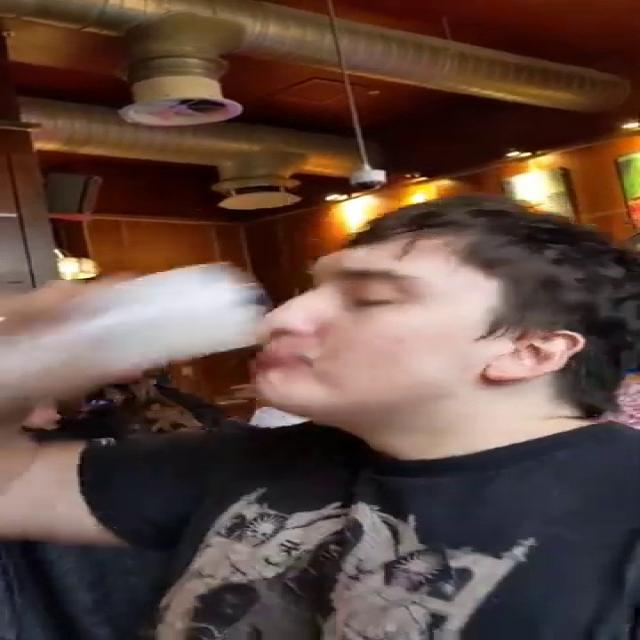Cup: (1, 261, 265, 411)
Hand: (0, 272, 153, 413)
Mouth: (238, 348, 328, 377)
